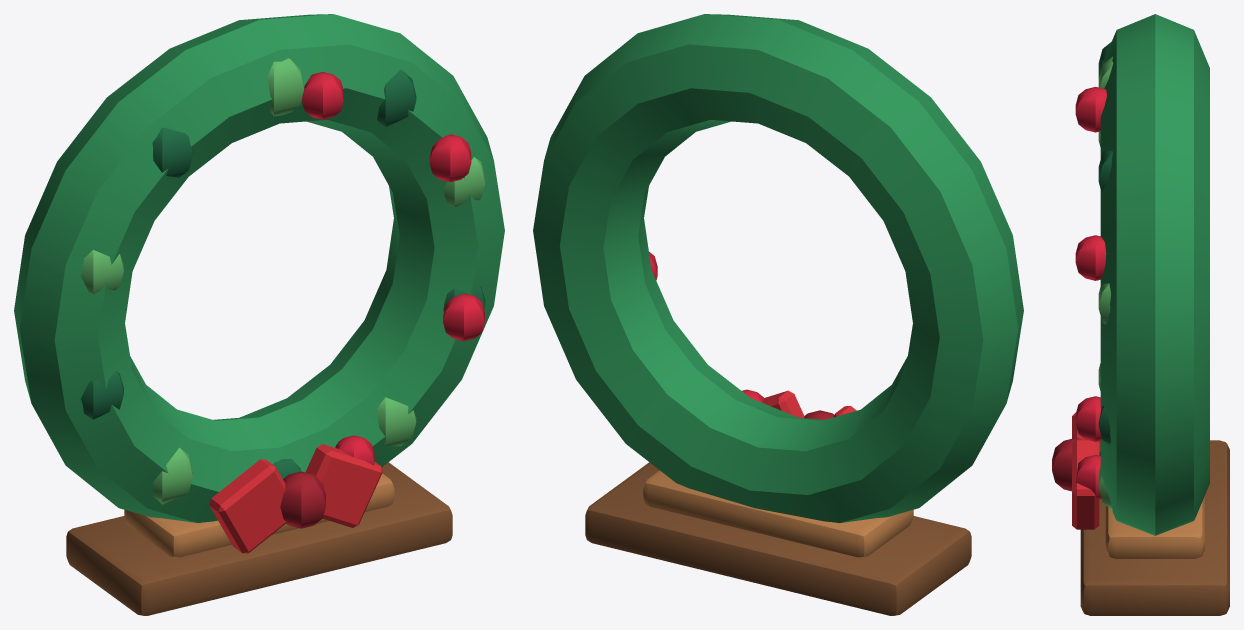
File: prop_wreath.glb
3 renders of one model, left to right at view 1: azimuth 30°, elevation 25°; view 2: azimuth 150°, elevation 25°; view 3: azimuth 270°, elevation 25°, orthographic. The views are drawn at different scales.
Parts seen in each view (by area): view 1: wreath; view 2: wreath; view 3: wreath.
Part boxes in pixels (box(x1,y1,x2,y2)): wreath: box(14, 14, 504, 615); wreath: box(533, 14, 1023, 615); wreath: box(1052, 14, 1229, 615).
Size of the model in its own units: 1.06 by 1.13 by 0.3576.
Materials: 1 (1 with a texture image).
